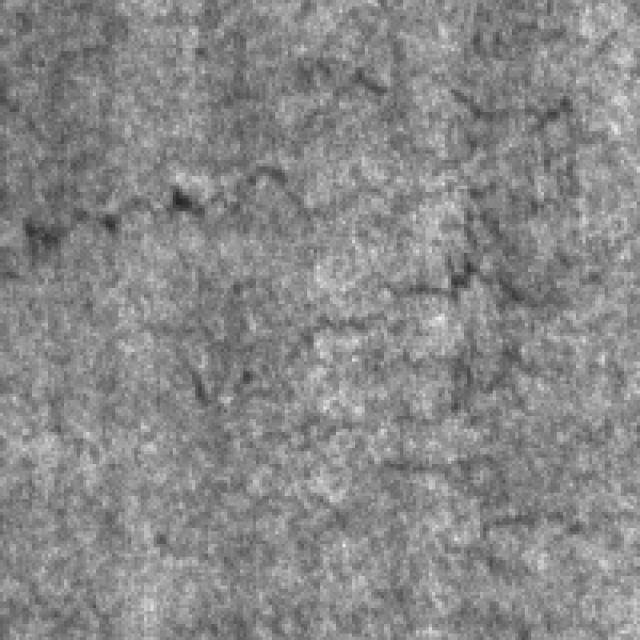crazing: (29, 141, 333, 448), (45, 76, 614, 234), (294, 250, 566, 428)
